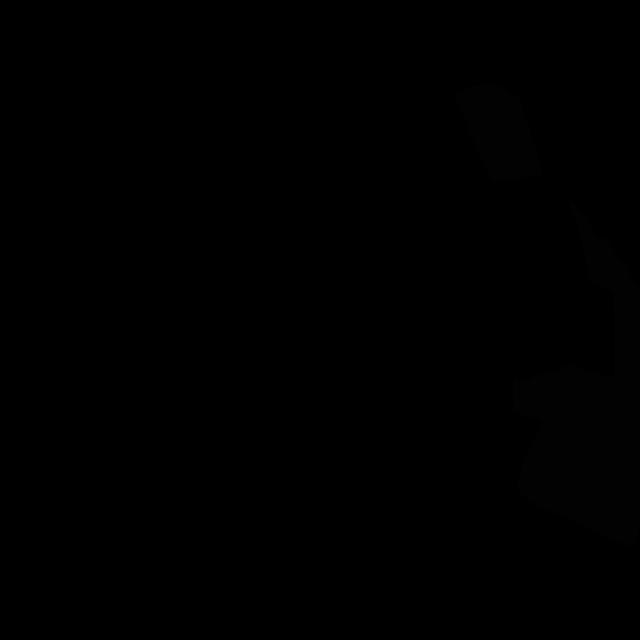cardboard: (512, 199, 640, 547), (454, 84, 544, 181)
